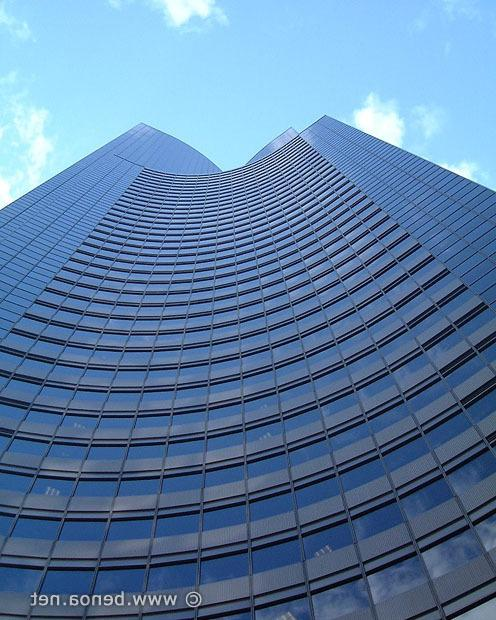building: (0, 113, 496, 620)
